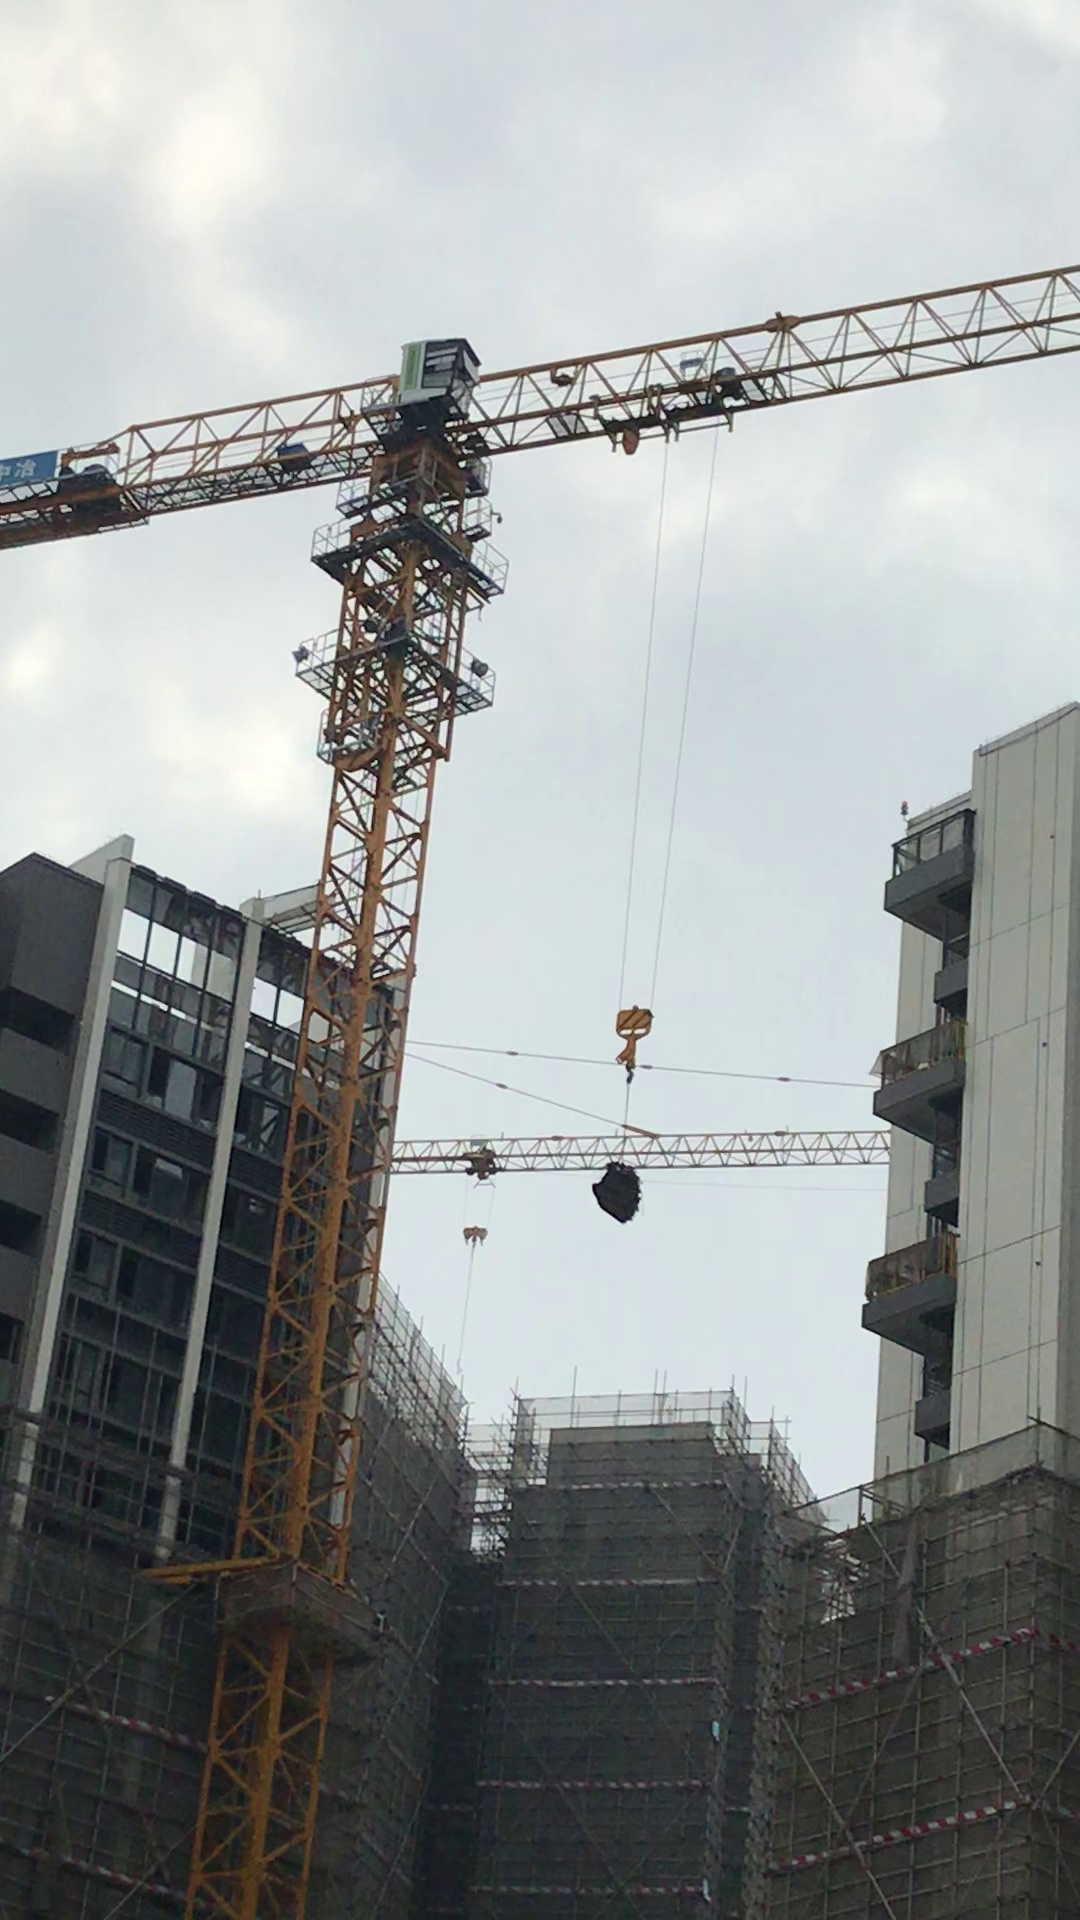hook: (612, 1005, 654, 1076), (462, 1221, 492, 1253)
slogan: (4, 448, 55, 487)
